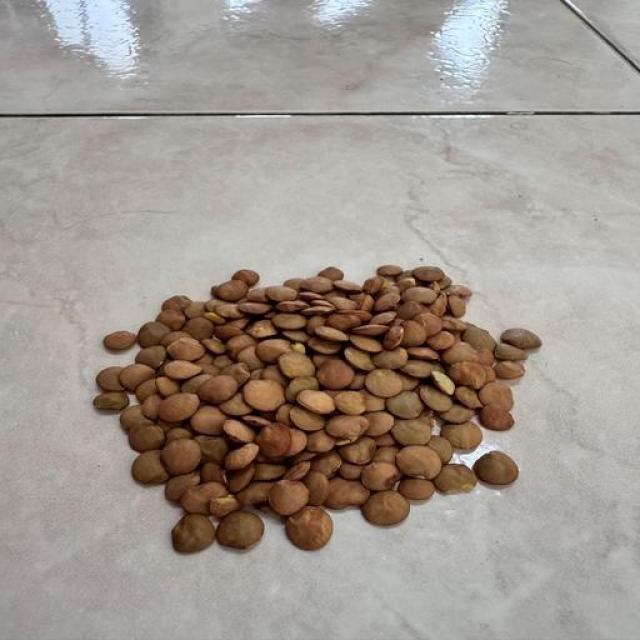organic: (94, 265, 541, 552), (285, 507, 332, 549), (217, 510, 263, 548), (362, 490, 409, 526), (172, 514, 214, 552), (395, 445, 441, 479), (160, 439, 201, 474), (474, 452, 518, 484), (269, 480, 308, 516), (324, 478, 369, 508), (243, 380, 286, 411), (255, 423, 291, 458), (434, 464, 476, 493), (158, 393, 199, 422), (360, 462, 401, 491), (198, 375, 238, 404), (440, 422, 482, 449), (365, 369, 402, 398), (318, 360, 354, 389), (297, 389, 336, 413), (500, 328, 541, 348), (398, 478, 434, 499), (103, 332, 136, 349)
